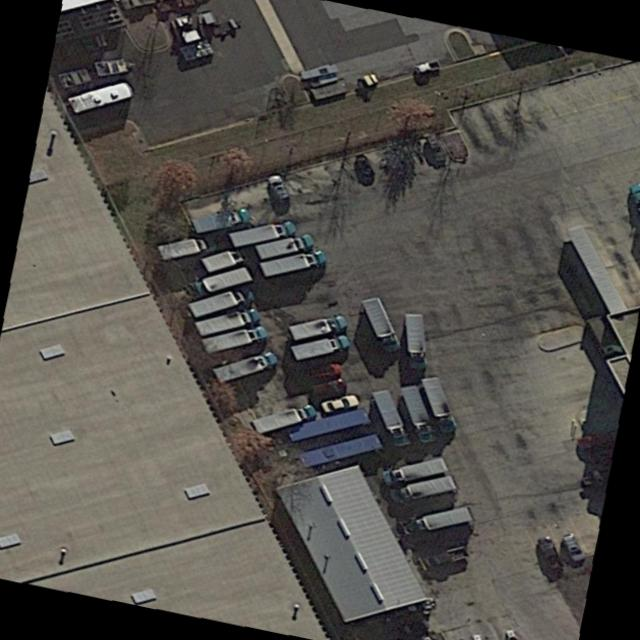large-vehicle: (359, 294, 406, 353), (65, 78, 136, 115), (212, 347, 281, 385), (371, 386, 413, 447), (187, 285, 259, 319), (421, 375, 461, 433), (401, 382, 439, 443), (258, 248, 330, 279), (249, 403, 318, 434), (191, 264, 256, 296), (192, 307, 261, 337), (200, 322, 269, 352), (388, 475, 459, 504), (227, 219, 298, 247), (380, 456, 451, 484), (409, 505, 478, 531), (256, 230, 316, 259), (290, 332, 352, 360), (286, 313, 349, 340), (191, 207, 254, 232), (156, 235, 214, 261), (403, 312, 429, 369), (200, 248, 248, 272)
small-vehicle: (301, 375, 350, 400), (293, 58, 343, 82), (53, 63, 95, 91), (299, 358, 345, 383), (534, 536, 566, 571), (348, 153, 380, 188), (317, 391, 365, 414), (558, 530, 588, 564), (91, 55, 134, 78), (265, 173, 294, 203), (410, 56, 447, 75), (119, 0, 157, 13)
